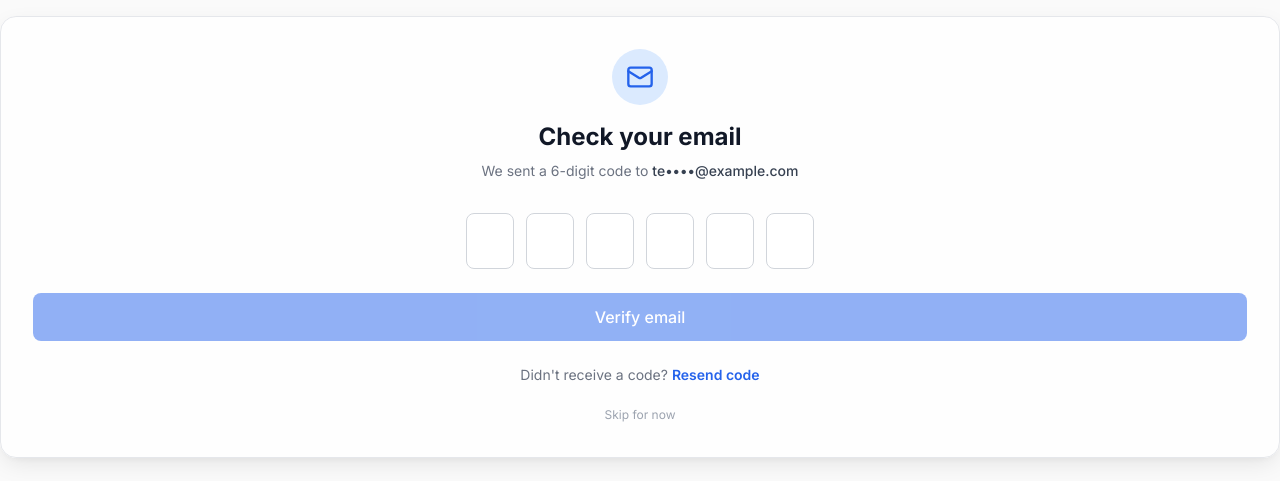
Scenario: VerifyEmailPage › enables submit after all 6 digits entered
The image size is (1280, 481).
In the field named "Digit 1": x=490, y=241 [466,213,514,269], type "1"
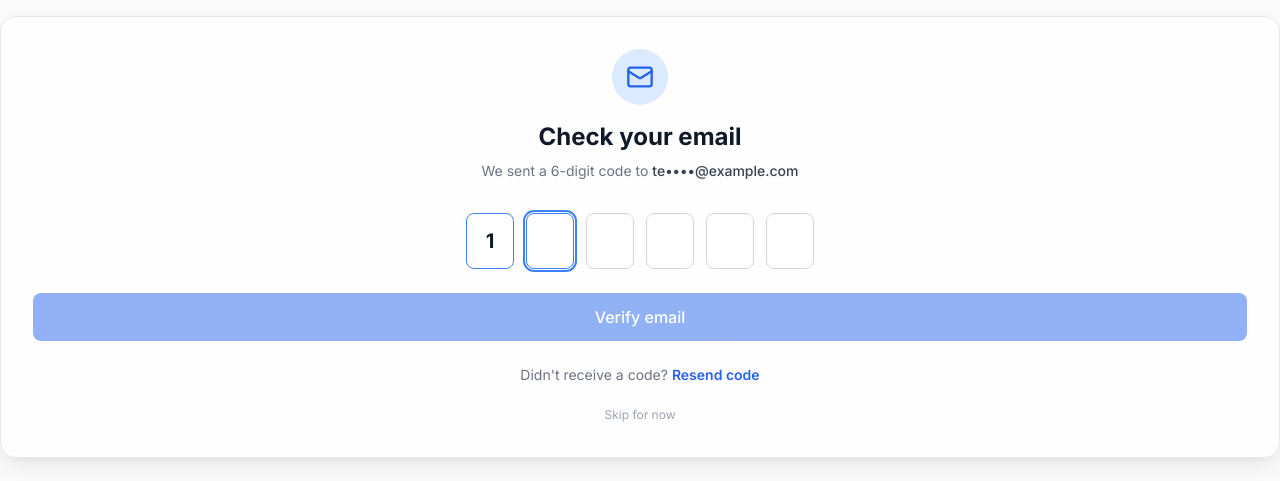
In the field named "Digit 2": x=550, y=241 [526,213,574,269], type "2"
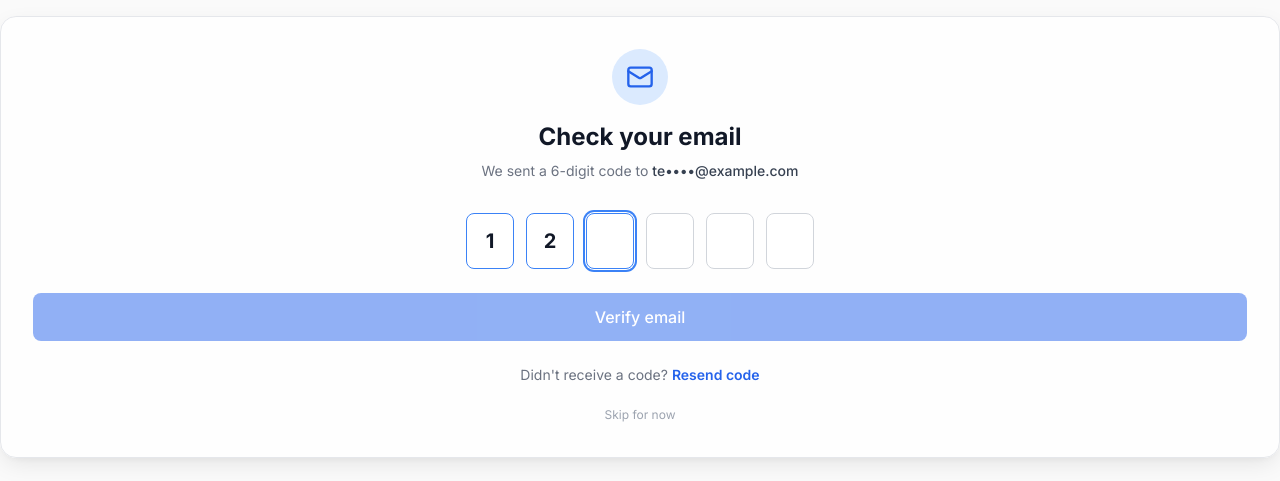
In the field named "Digit 3": x=610, y=241 [586,213,634,269], type "3"
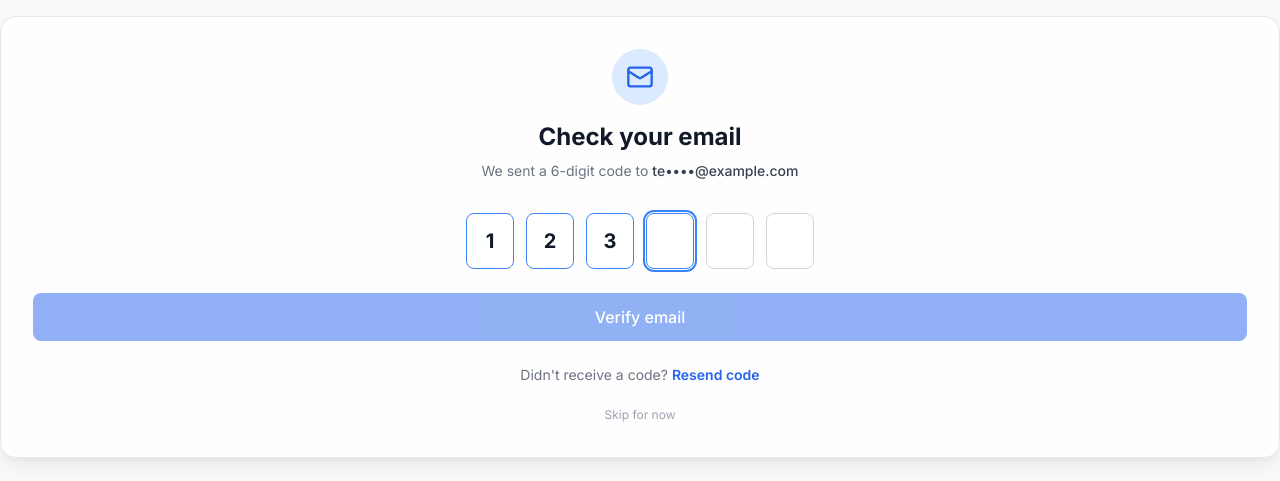
In the field named "Digit 4": x=670, y=241 [646,213,694,269], type "4"
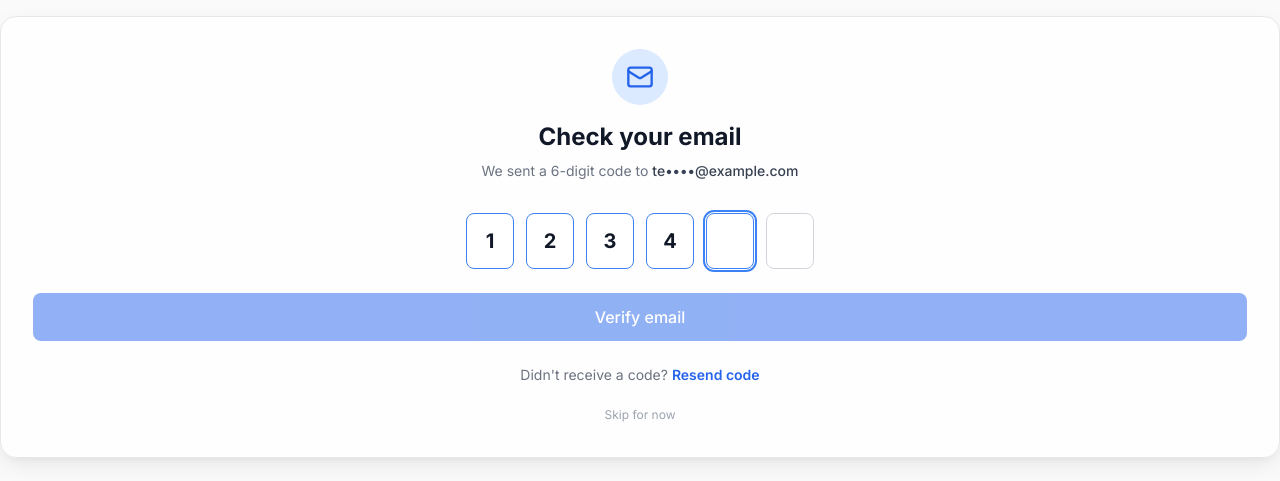
In the field named "Digit 5": x=730, y=241 [706,213,754,269], type "5"
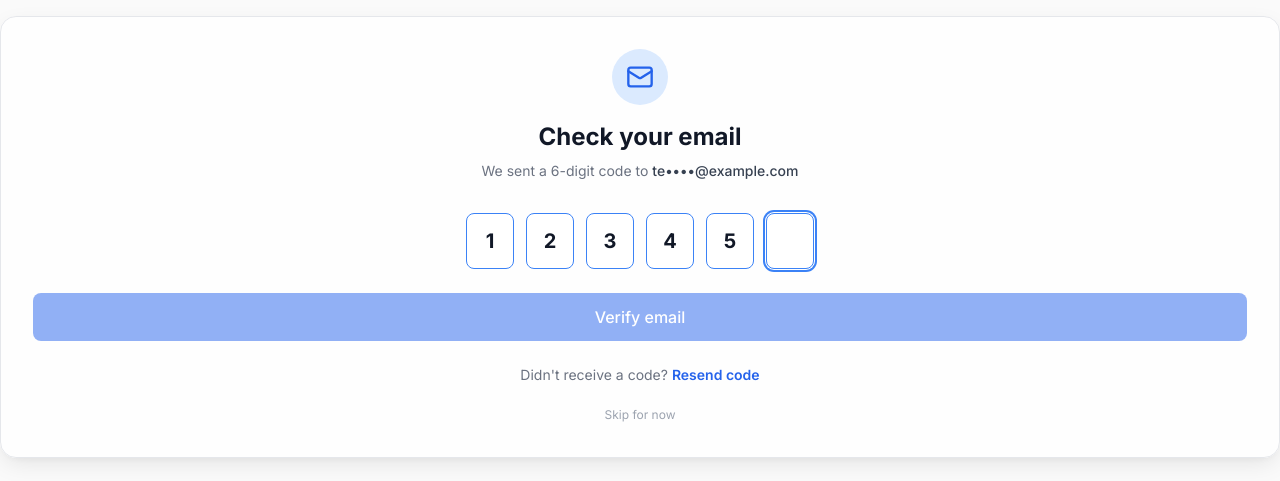
In the field named "Digit 6": x=790, y=241 [766,213,814,269], type "6"
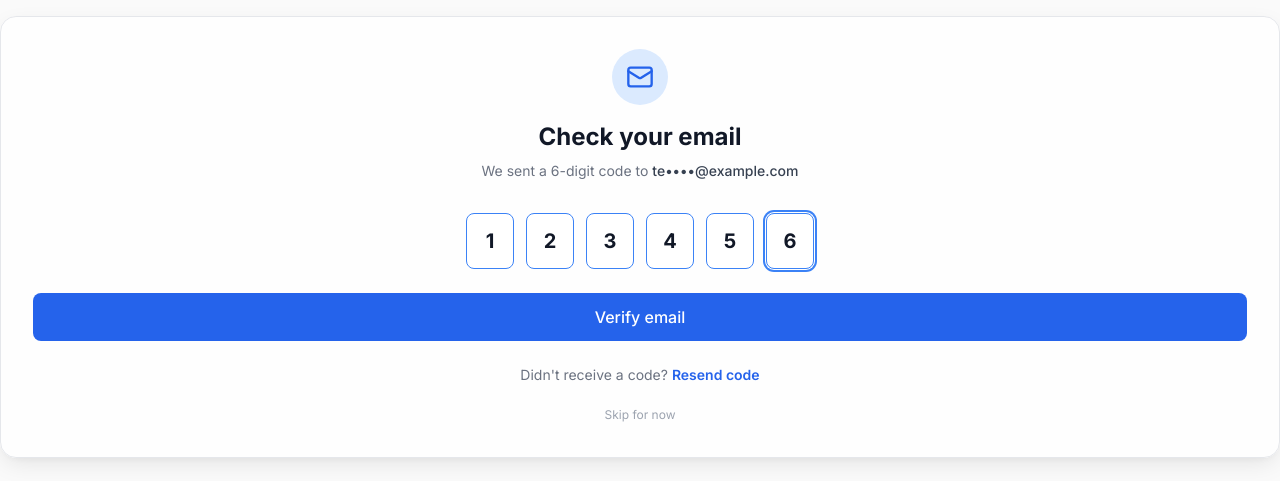
Check: the button "Verify email" is enabled, box [33,293,1247,341]
